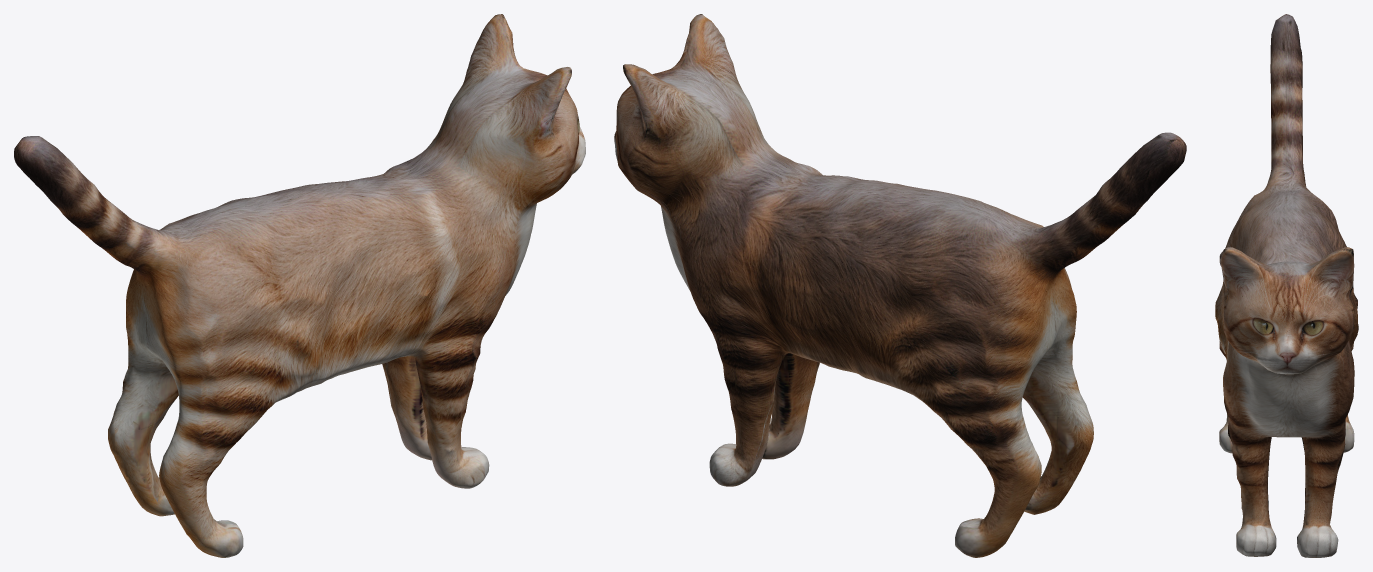
The model's file is brown_cat_0403181504_refine.fbx.
The picture shows the model from 3 angles, left to right: view 1: azimuth 30°, elevation 25°; view 2: azimuth 150°, elevation 25°; view 3: azimuth 270°, elevation 25°; orthographic projection. The views are drawn at different scales.
Visible parts, largest first — view 1: Mesh_0; view 2: Mesh_0; view 3: Mesh_0.
Boxes of the visible parts, x1,y1,x2,y2 form: Mesh_0: (14, 14, 585, 557); Mesh_0: (614, 14, 1186, 557); Mesh_0: (1215, 14, 1358, 557).
Size of the model in its own units: 120 by 88.71 by 31.3.
1 material, 1 textured.
